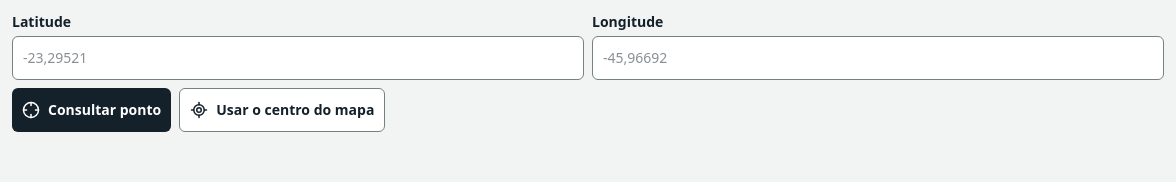
Scenario: ConsultaPorCoordenada › explica a coordenada fora do intervalo
Type "95" into the field labelled "Latitude".
click(298, 58); type("95")  # box [12,36,584,80]
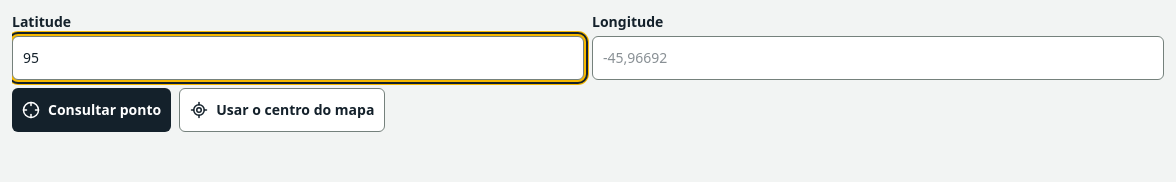
Type "-45" into the field labelled "Longitude".
click(878, 58); type("-45")  # box [592,36,1164,80]
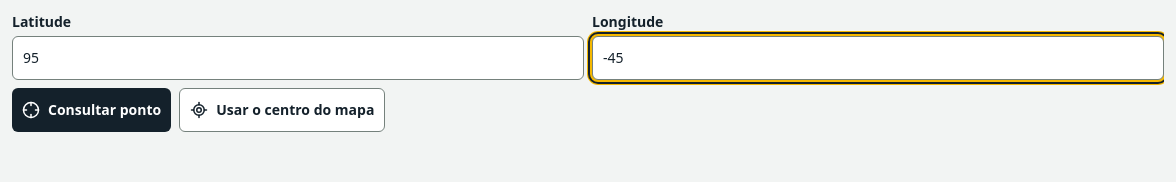
Click the button "Consultar ponto".
click(92, 110)  # box [12,88,171,132]
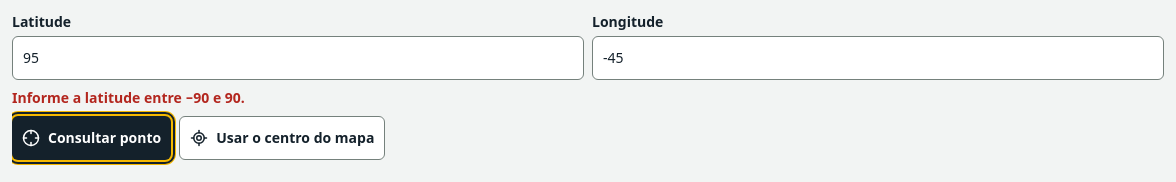
Result: the message reads "Informe a latitude entre −90 e 90." at [12,88,245,107]
